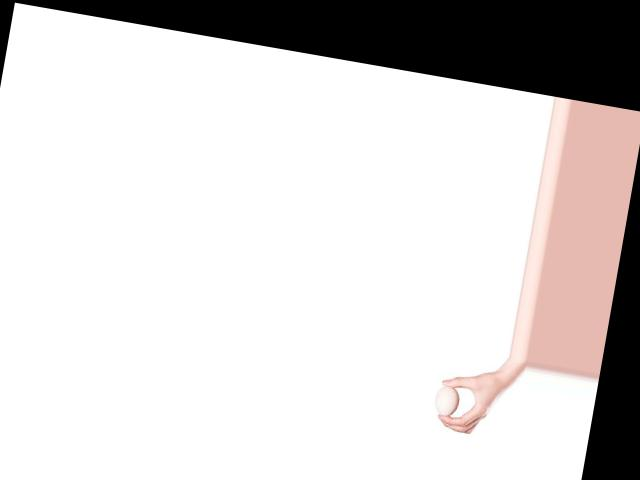egg: (433, 383, 461, 418)
